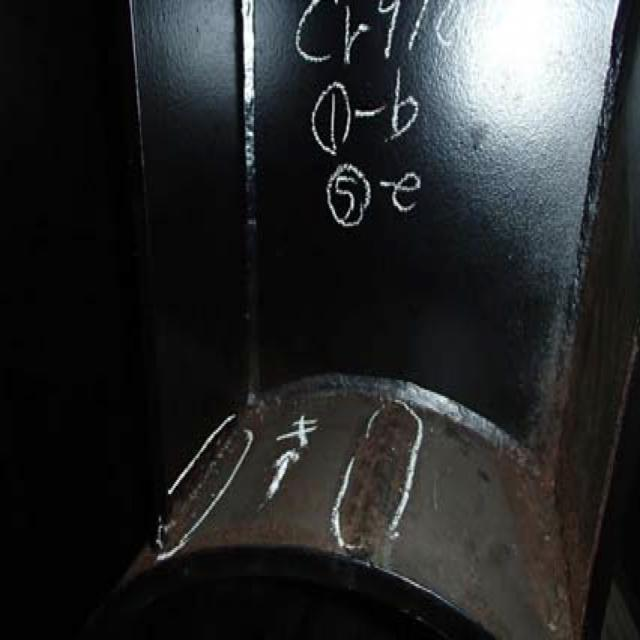corrosion: (327, 384, 423, 589), (510, 413, 590, 637)
